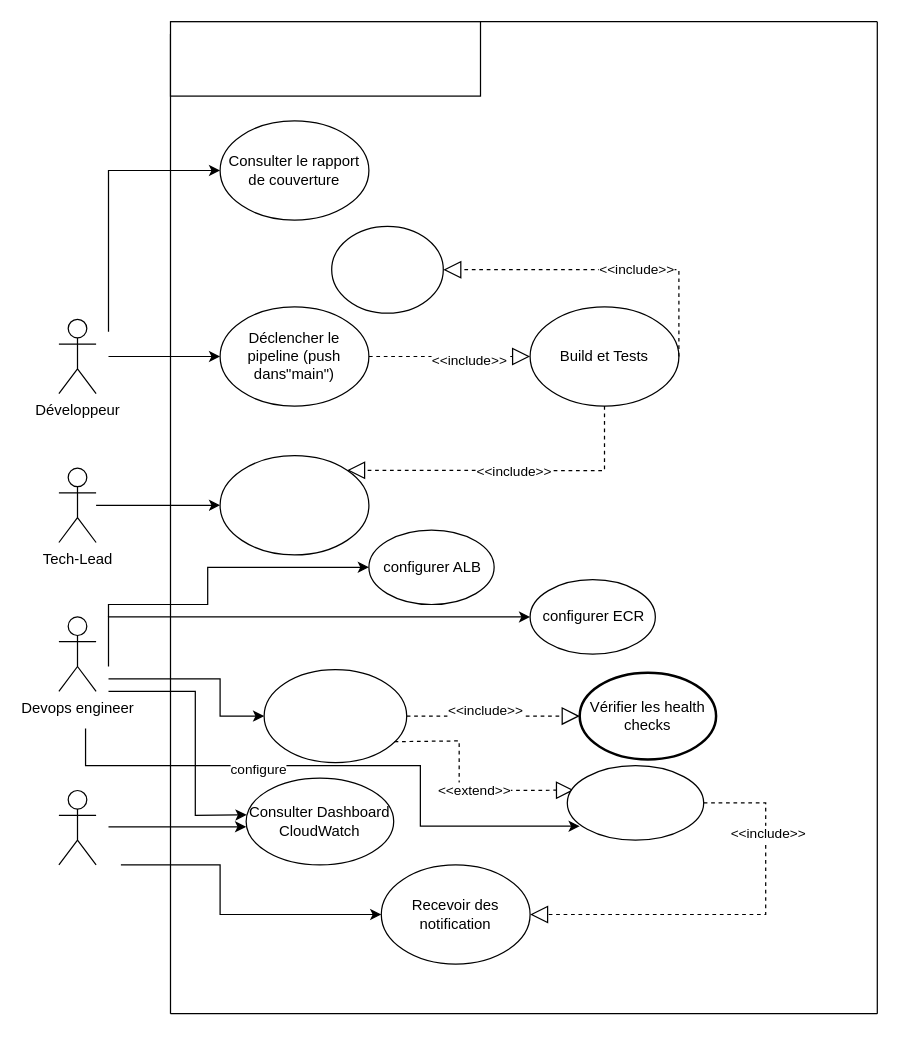
Some shapes in this 900 by 1037 pixel diagram are drawn without their labels. Each missing label, with the centre of its shape:
Déployer Blue/Green (nouvelle version): the point at 335,715
Manager: the point at 77,827
Pipeline CI-CD complet: the point at 324,58
Rollback automatique(si échec): the point at 635,802
Scan SAST: the point at 386,269
Visualiser la couverture des tests(artefact CodeBuild): the point at 294,504
